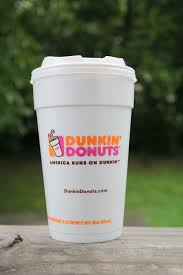dunkin donuts: (27, 55, 139, 246)
